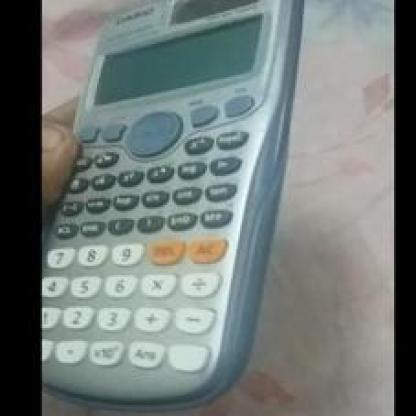calculator: (40, 0, 302, 394)
